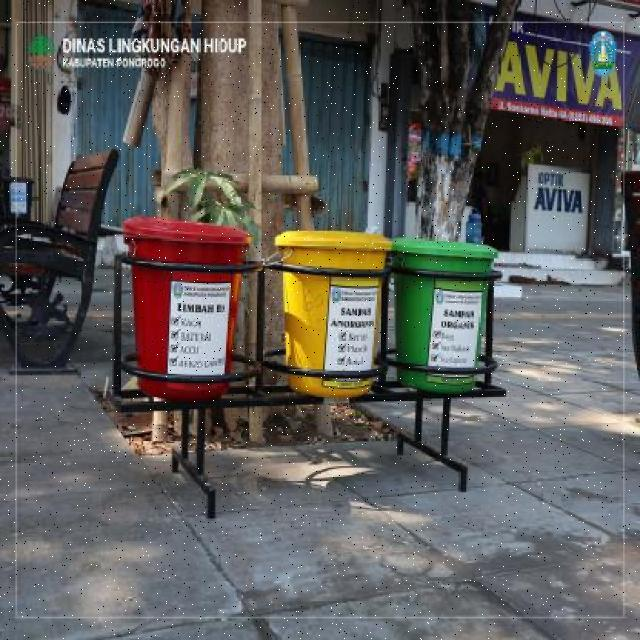garbage container: (115, 210, 260, 413), (272, 221, 391, 407), (391, 229, 505, 406)
